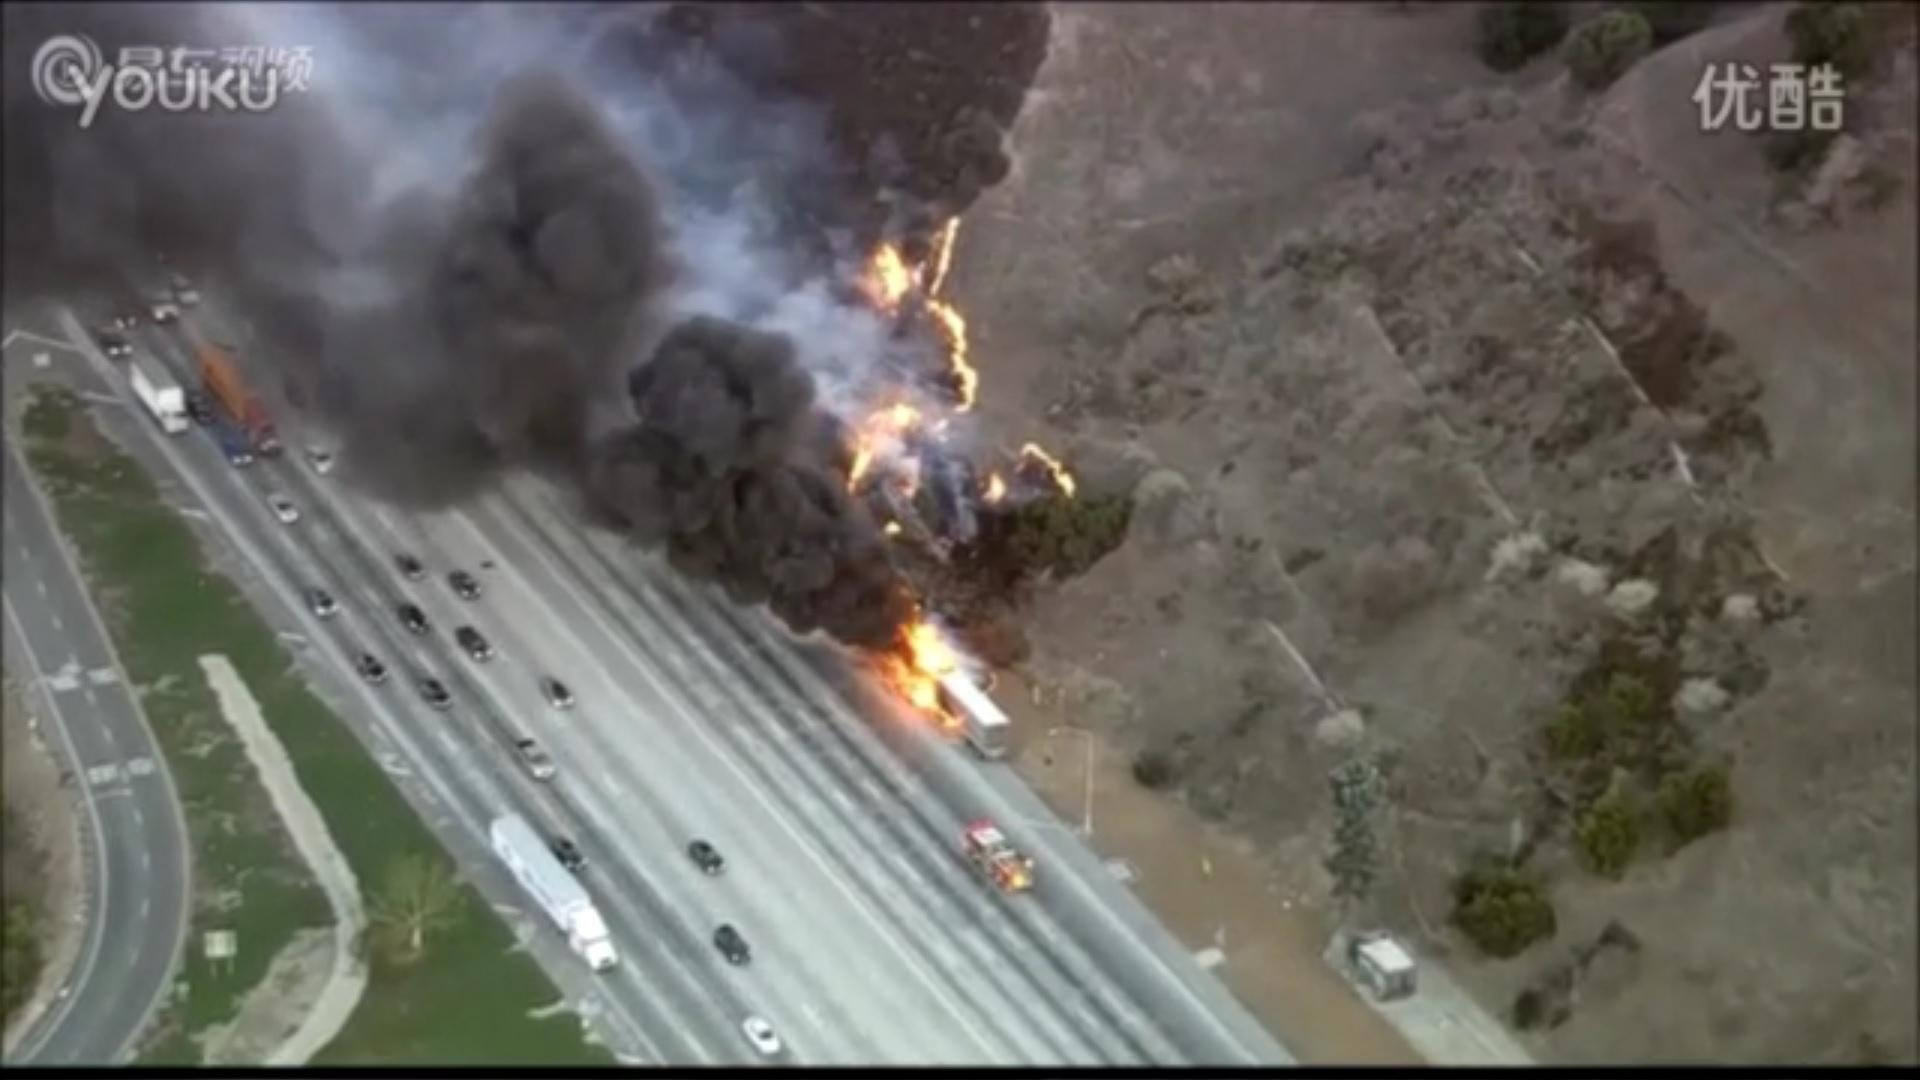fire: (872, 227, 976, 386), (890, 616, 960, 729), (843, 397, 920, 493), (1017, 442, 1073, 495)
